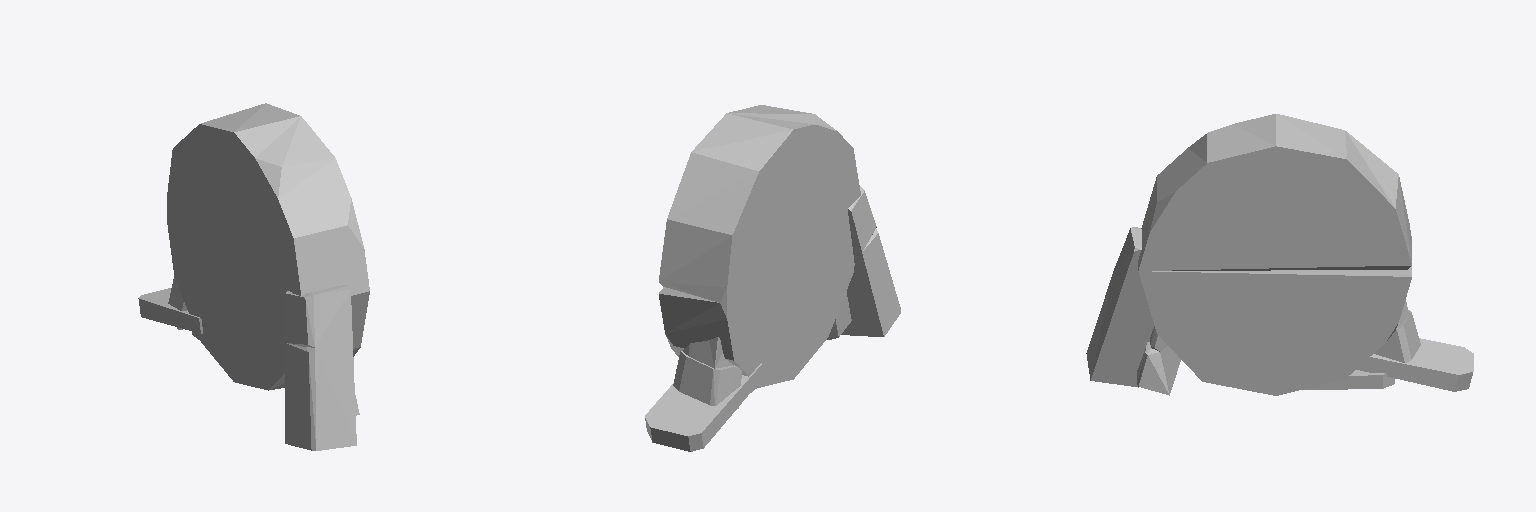
File: landmark--circle__01.obj
3 views of the same model, side by side, from view 1: azimuth 30°, elevation 25°; view 2: azimuth 150°, elevation 25°; view 3: azimuth 270°, elevation 25° (orthographic).
Visible parts, largest first — view 1: circle__01_Cube.001; view 2: circle__01_Cube.001; view 3: circle__01_Cube.001.
Boxes of the visible parts, x1,y1,x2,y2 form: circle__01_Cube.001: [138, 103, 369, 450]; circle__01_Cube.001: [645, 105, 900, 451]; circle__01_Cube.001: [1086, 114, 1473, 395].
Size of the model in its own units: 1.46 by 4.22 by 5.66.